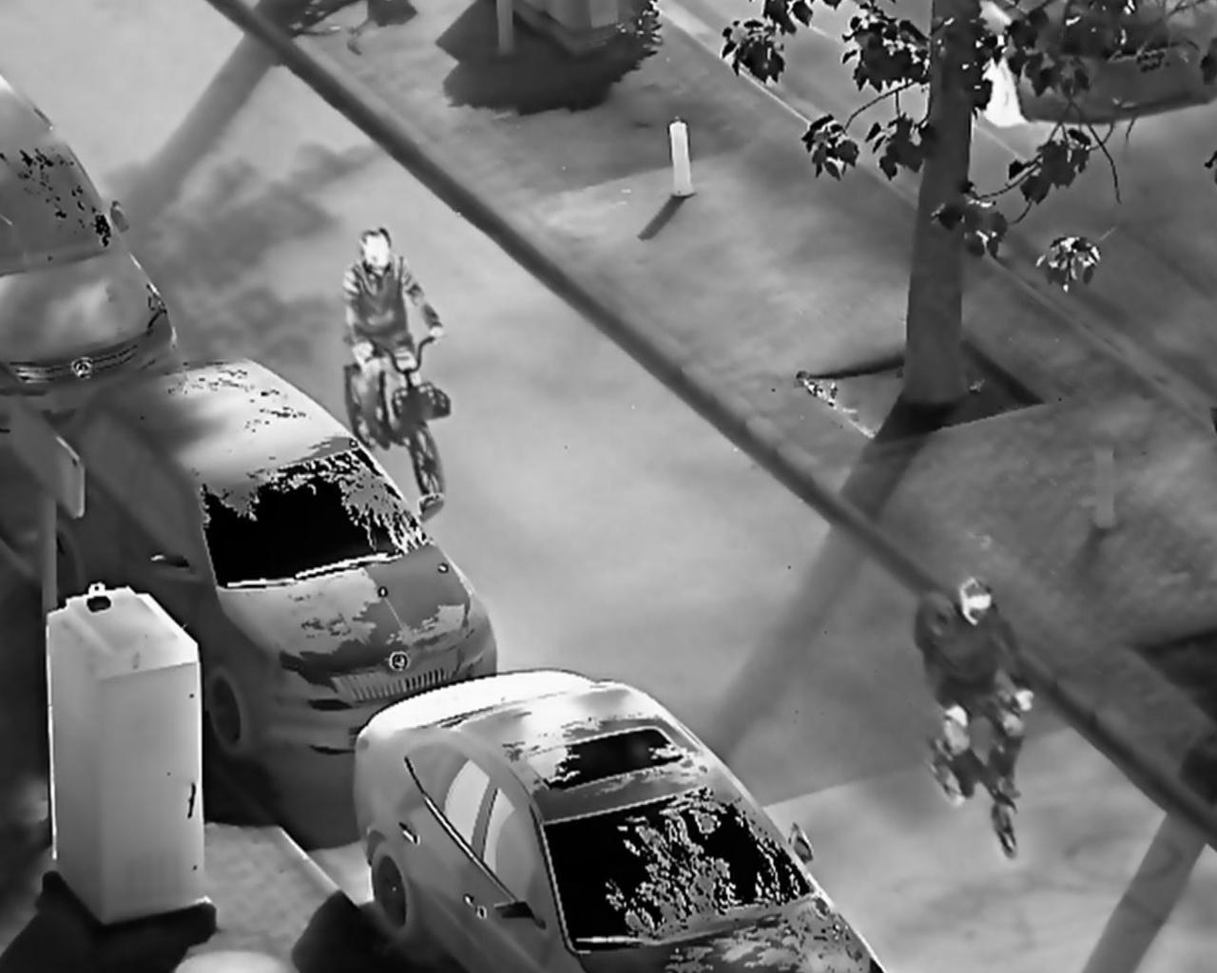person: (921, 576, 1038, 807), (339, 227, 449, 452)
